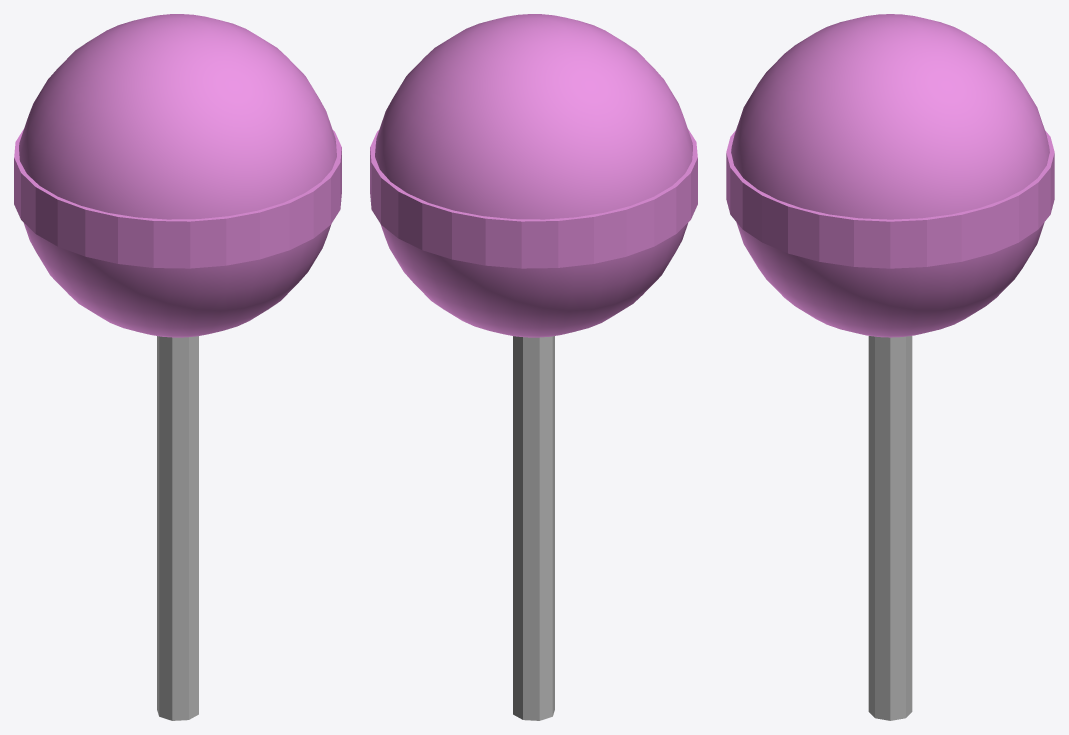
Rendered from bonbon3.glb.
3 renders of one model, left to right at view 1: azimuth 30°, elevation 25°; view 2: azimuth 150°, elevation 25°; view 3: azimuth 270°, elevation 25°, orthographic.
Parts seen in each view (by area): view 1: Sphère, Cylindre.001, Cylindre; view 2: Sphère, Cylindre.001, Cylindre; view 3: Sphère, Cylindre, Cylindre.001.
Boxes of the visible parts, bbox=[...] form: Sphère: bbox=[19, 14, 336, 337]; Cylindre.001: bbox=[14, 129, 341, 268]; Cylindre: bbox=[157, 336, 198, 720]; Sphère: bbox=[375, 14, 692, 337]; Cylindre.001: bbox=[370, 129, 697, 268]; Cylindre: bbox=[513, 336, 554, 720]; Sphère: bbox=[731, 14, 1049, 337]; Cylindre: bbox=[868, 336, 912, 720]; Cylindre.001: bbox=[726, 130, 1054, 268].
Size of the model in its own units: 2.03 by 4.65 by 2.03.
